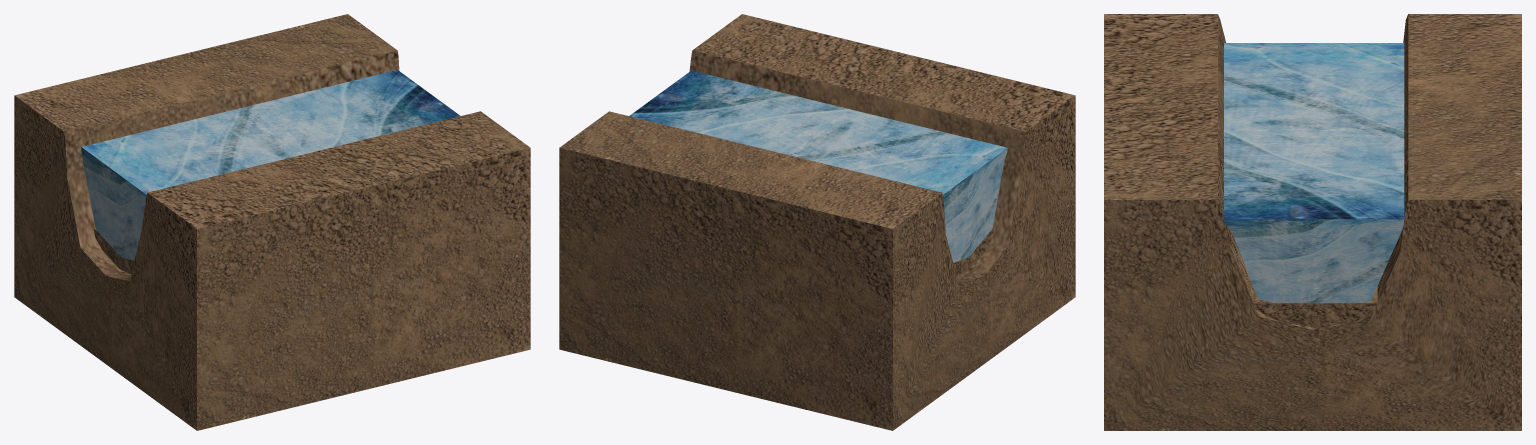
Rendered from 冰川谷.gltf.
The picture shows the model from 3 angles, left to right: view 1: azimuth 30°, elevation 25°; view 2: azimuth 150°, elevation 25°; view 3: azimuth 270°, elevation 25°; orthographic projection. The views are drawn at different scales.
Parts seen in each view (by area): view 1: node_Box004_-62148, node_Box003_-62146, node_Box005_-62150; view 2: node_Box004_-62148, node_Box003_-62146, node_Box005_-62150; view 3: node_Box004_-62148, node_Box003_-62146, node_Box005_-62150.
Part boxes in pixels (x1,y1,x2,y2): node_Box004_-62148: [14, 14, 530, 430]; node_Box003_-62146: [81, 70, 460, 260]; node_Box005_-62150: [93, 228, 134, 273]; node_Box004_-62148: [559, 14, 1075, 430]; node_Box003_-62146: [629, 70, 1007, 262]; node_Box005_-62150: [953, 229, 994, 275]; node_Box004_-62148: [1104, 14, 1521, 430]; node_Box003_-62146: [1224, 43, 1404, 302]; node_Box005_-62150: [1253, 286, 1377, 327].
Size of the model in its own units: 1.98 by 1.15 by 1.88.
